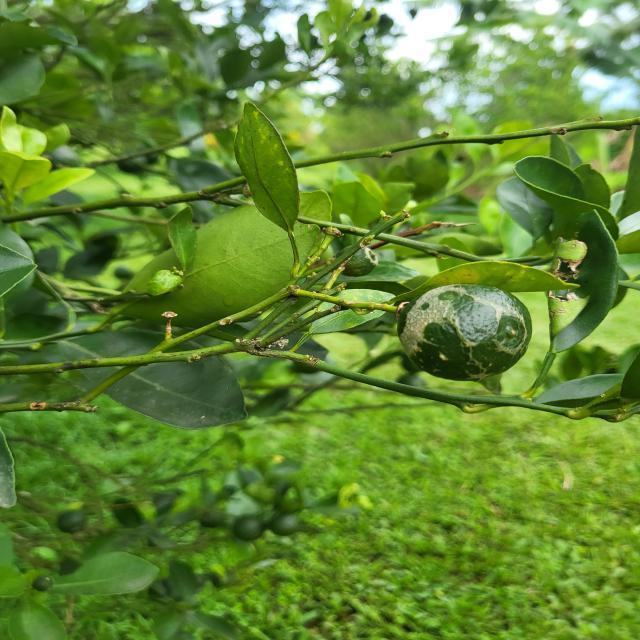thrips: (394, 277, 533, 387)
